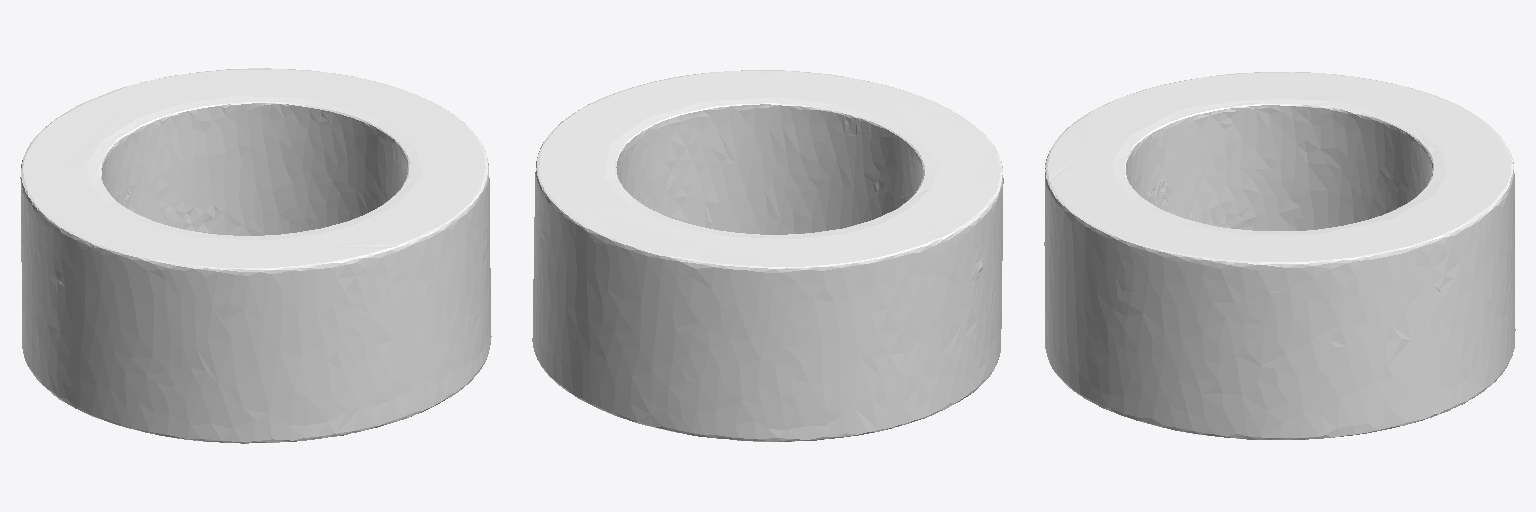
robot.urdf — model:
<?xml version="1.0" ?>
    <robot name="model">
    <link name="base">
        <inertial>
            <origin rpy="0 0 0" xyz="0 0 0"/>
            <mass value="1.0"/>
            <inertia ixx="1" ixy="0" ixz="0" iyy="1" iyz="0" izz="1"/>
        </inertial>
    <visual>
        <origin rpy="0 0 0" xyz="0 0 0"/>
        <geometry>
        <mesh filename="./meshes/model.obj" scale="1 1 1"/>
        </geometry>
        <material name="white">
        <color rgba="1 1 1 1"/>
        </material>
    </visual>
    <collision>
        <origin rpy="0 0 0" xyz="0 0 0"/>
        <geometry>
        <mesh filename="./meshes/model_vhacd.obj" scale="1 1 1"/>
        </geometry>
    </collision>
    </link>
    <link name="grasp">
        <inertial>
        <origin rpy="0 0 0" xyz="0 0 0"/>
        <mass value="0.0"/>
        <inertia ixx="1" ixy="0" ixz="0" iyy="1" iyz="0" izz="1"/>
        </inertial>
    </link>
    <joint name="base__grasp" type="fixed">
        <origin xyz="0.0 0.0 0.0" rpy="0.0 0.0 0.0"/>
        <parent link="base"/>
        <child link="grasp"/>
    </joint>
    </robot>
    

--- Facts derived from the render (not from the file) ---
Views: 3 orthographic renders of the robot side by side, from view 1: azimuth 30°, elevation 25°; view 2: azimuth 150°, elevation 25°; view 3: azimuth 270°, elevation 25°.
Model model with 2 links and 1 joints (1 fixed), rooted at base, posed every joint at zero.
Links seen in each view (by area): view 1: base; view 2: base; view 3: base.
Boxes of the visible links, x1,y1,x2,y2 form: base: (20,68,491,443); base: (532,70,1003,441); base: (1044,72,1515,439).
Bounding box of the posed robot: 0.1181 × 0.117 × 0.0502 m (x, y, z).
Meshes: 1 distinct files referenced, 1 mesh visuals loaded (1 OBJ).